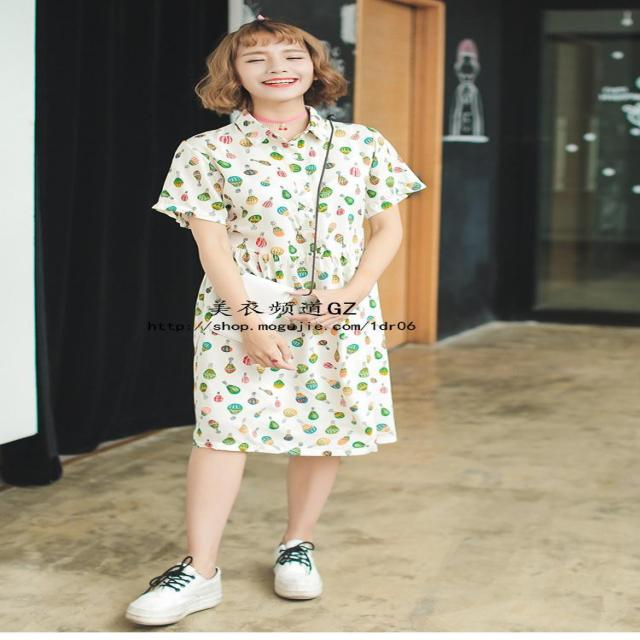short sleeve dress: (151, 107, 425, 453)
